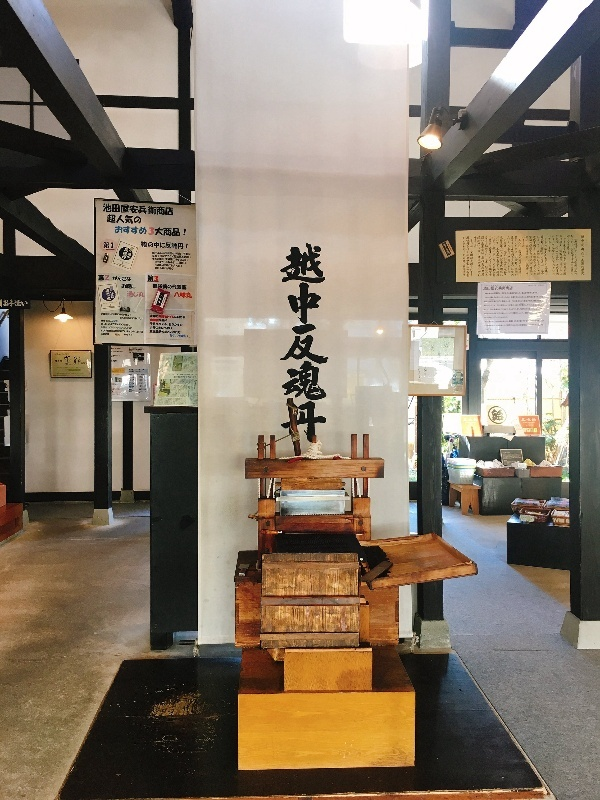text: (289, 242, 304, 443), (305, 242, 320, 443), (321, 242, 332, 443), (278, 242, 288, 443), (481, 236, 496, 277), (530, 236, 544, 276), (467, 236, 480, 277), (563, 237, 576, 276), (500, 236, 512, 277), (177, 375, 192, 406), (485, 236, 496, 277), (581, 235, 592, 276), (533, 236, 544, 276), (552, 235, 560, 276), (489, 237, 496, 277), (515, 256, 528, 276), (515, 235, 528, 254), (471, 251, 480, 277), (504, 250, 512, 277), (548, 235, 560, 253), (571, 235, 576, 275), (65, 354, 80, 367), (113, 204, 128, 216), (129, 204, 144, 216), (145, 204, 160, 216), (129, 225, 144, 237), (145, 225, 160, 237), (161, 225, 176, 237), (567, 235, 576, 255), (537, 251, 544, 276), (113, 214, 128, 225), (161, 204, 174, 216), (115, 225, 128, 237), (193, 375, 198, 406), (418, 368, 432, 379), (508, 236, 512, 274), (497, 236, 512, 246), (184, 356, 192, 374), (129, 214, 142, 225), (145, 241, 160, 250), (161, 241, 176, 250), (438, 352, 448, 365), (443, 342, 448, 367), (172, 375, 176, 406), (477, 236, 480, 277), (177, 225, 187, 237), (493, 237, 496, 277), (129, 291, 145, 298), (162, 297, 176, 305), (177, 292, 193, 299), (545, 238, 548, 275), (103, 204, 112, 216), (129, 252, 144, 259), (177, 241, 188, 250), (541, 235, 544, 267), (105, 289, 112, 302), (497, 409, 504, 422), (113, 276, 128, 282), (161, 284, 176, 290), (497, 247, 500, 277), (518, 239, 528, 248), (193, 356, 198, 374), (121, 248, 128, 260), (98, 275, 112, 281), (148, 275, 160, 282), (537, 236, 544, 248), (465, 236, 467, 277), (471, 239, 480, 248), (424, 367, 432, 377), (526, 236, 528, 276), (497, 286, 513, 291), (113, 312, 128, 317), (113, 329, 128, 334), (161, 251, 176, 256), (161, 322, 176, 327), (504, 239, 512, 248), (574, 239, 576, 275), (129, 329, 143, 334), (522, 237, 528, 248), (491, 409, 496, 422), (556, 246, 560, 262), (103, 242, 112, 249), (113, 323, 128, 327), (161, 255, 176, 259), (161, 258, 176, 262), (161, 261, 176, 265), (161, 264, 176, 268), (177, 284, 187, 290), (161, 315, 176, 319), (161, 330, 176, 334), (475, 237, 480, 249), (484, 286, 496, 291), (129, 317, 143, 321), (177, 255, 191, 259), (161, 267, 175, 271), (107, 214, 112, 225), (101, 312, 112, 317), (101, 329, 112, 334), (177, 334, 190, 338), (465, 418, 478, 422), (150, 322, 160, 327), (561, 250, 563, 275), (177, 258, 189, 262), (556, 264, 560, 276), (433, 344, 436, 359), (497, 300, 512, 303), (513, 300, 528, 303), (497, 304, 512, 307), (513, 304, 528, 307), (497, 308, 512, 311), (513, 308, 528, 311), (529, 308, 544, 311), (497, 312, 512, 315), (513, 312, 528, 315), (497, 324, 512, 327), (513, 324, 528, 327), (529, 324, 544, 327), (81, 362, 96, 365), (101, 319, 112, 323), (101, 323, 112, 327), (161, 326, 172, 330), (153, 284, 160, 290), (529, 300, 543, 303), (463, 236, 464, 277), (177, 261, 187, 265), (150, 315, 160, 319), (150, 318, 160, 322), (150, 330, 160, 334), (511, 236, 512, 276), (513, 236, 514, 276), (529, 304, 542, 307), (529, 312, 542, 315), (119, 263, 128, 267), (177, 315, 186, 319), (151, 326, 160, 330), (556, 235, 560, 244), (577, 239, 578, 275), (153, 251, 160, 256), (101, 326, 112, 329), (117, 327, 128, 330), (101, 333, 112, 336), (485, 300, 496, 303), (485, 304, 496, 307), (485, 308, 496, 311), (485, 312, 496, 315), (485, 324, 496, 327), (120, 317, 128, 321), (152, 258, 160, 262), (122, 284, 128, 289), (129, 284, 135, 289), (129, 349, 144, 351), (129, 369, 144, 371), (177, 322, 183, 327), (129, 374, 144, 376), (129, 386, 144, 388), (430, 344, 432, 359), (529, 285, 544, 287), (497, 293, 512, 295), (513, 293, 528, 295), (497, 297, 512, 299), (513, 297, 528, 299), (529, 297, 544, 299), (497, 321, 512, 323), (513, 321, 528, 323), (529, 321, 544, 323), (153, 255, 160, 259), (156, 297, 160, 304), (169, 334, 176, 338), (130, 390, 144, 392), (497, 285, 511, 287), (521, 418, 528, 422), (529, 418, 536, 422), (141, 241, 144, 250), (161, 295, 164, 304), (115, 334, 128, 336), (81, 354, 83, 367), (177, 251, 182, 256), (449, 342, 450, 367), (559, 250, 560, 275), (184, 253, 192, 256), (161, 318, 167, 322), (561, 235, 563, 247), (484, 285, 496, 287), (484, 329, 496, 331), (117, 259, 128, 261), (485, 317, 496, 319), (497, 317, 508, 319), (121, 260, 128, 263), (541, 269, 544, 276), (113, 319, 118, 323), (113, 351, 123, 353), (113, 392, 123, 394), (155, 261, 160, 265), (155, 264, 160, 268), (177, 264, 182, 268), (155, 267, 160, 271), (486, 293, 496, 295), (486, 297, 496, 299), (486, 321, 496, 323), (122, 262, 128, 265), (158, 295, 160, 304), (529, 293, 538, 295), (55, 360, 64, 362), (104, 302, 112, 304), (113, 389, 121, 391), (113, 394, 121, 396), (177, 330, 181, 334), (56, 354, 64, 356), (129, 348, 144, 349), (129, 351, 144, 352), (129, 352, 144, 353), (129, 371, 144, 372), (129, 381, 144, 382), (129, 384, 144, 385), (129, 388, 144, 389), (129, 389, 144, 390), (129, 392, 144, 393), (130, 378, 144, 379), (130, 382, 144, 383), (130, 385, 144, 386), (129, 276, 131, 282), (124, 307, 128, 310), (129, 327, 133, 330), (124, 333, 128, 336), (113, 388, 119, 390), (529, 422, 535, 424), (113, 370, 124, 371), (129, 312, 131, 317), (139, 377, 144, 379), (139, 380, 144, 382), (139, 383, 144, 385), (139, 386, 144, 388), (139, 389, 144, 391), (139, 391, 144, 393), (139, 392, 144, 394), (497, 329, 502, 331), (523, 422, 528, 424), (65, 354, 70, 356), (125, 262, 128, 265), (129, 333, 132, 336), (113, 302, 117, 304), (113, 348, 121, 349), (113, 242, 114, 249), (127, 291, 128, 298), (113, 355, 120, 356), (109, 327, 112, 329), (113, 371, 119, 372), (141, 374, 144, 376), (113, 361, 118, 362), (113, 385, 118, 386), (139, 376, 144, 377), (139, 379, 144, 380), (139, 382, 144, 383), (139, 385, 144, 386), (139, 388, 144, 389), (529, 426, 534, 427), (129, 323, 130, 327), (113, 327, 115, 329), (113, 360, 117, 361), (145, 386, 147, 388), (463, 418, 464, 422), (129, 262, 130, 265), (111, 351, 112, 353), (111, 356, 112, 358), (113, 356, 114, 358), (113, 383, 115, 384), (145, 380, 146, 382), (145, 385, 147, 386), (145, 389, 146, 391), (145, 391, 146, 393), (545, 285, 546, 287), (526, 426, 528, 427), (111, 348, 112, 349), (145, 382, 146, 383), (145, 388, 146, 389)
